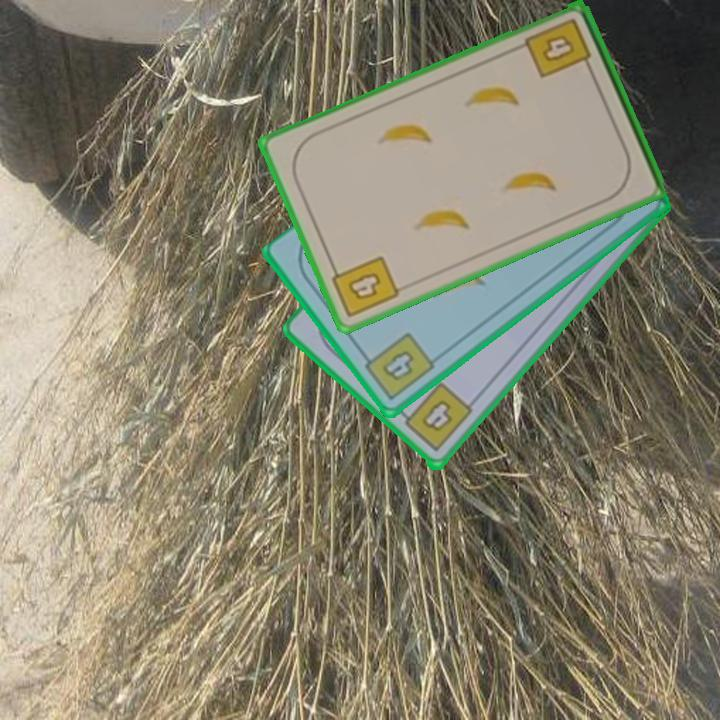4b: (395, 379, 476, 456), (357, 329, 439, 404), (326, 252, 402, 321), (522, 14, 595, 82)
